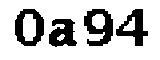0: (12, 4, 47, 48)
4: (117, 6, 150, 48)
9: (82, 4, 115, 51)
a: (49, 15, 79, 49)
